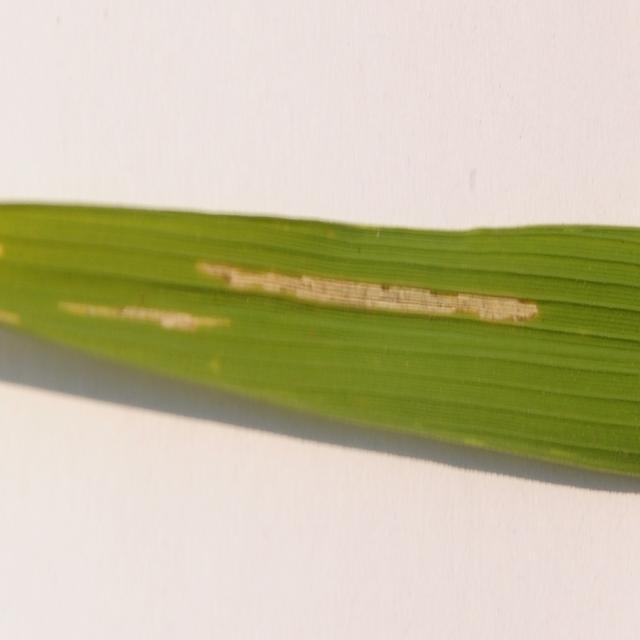bacterial_leaf_blight: (197, 263, 538, 321), (59, 302, 229, 331)
